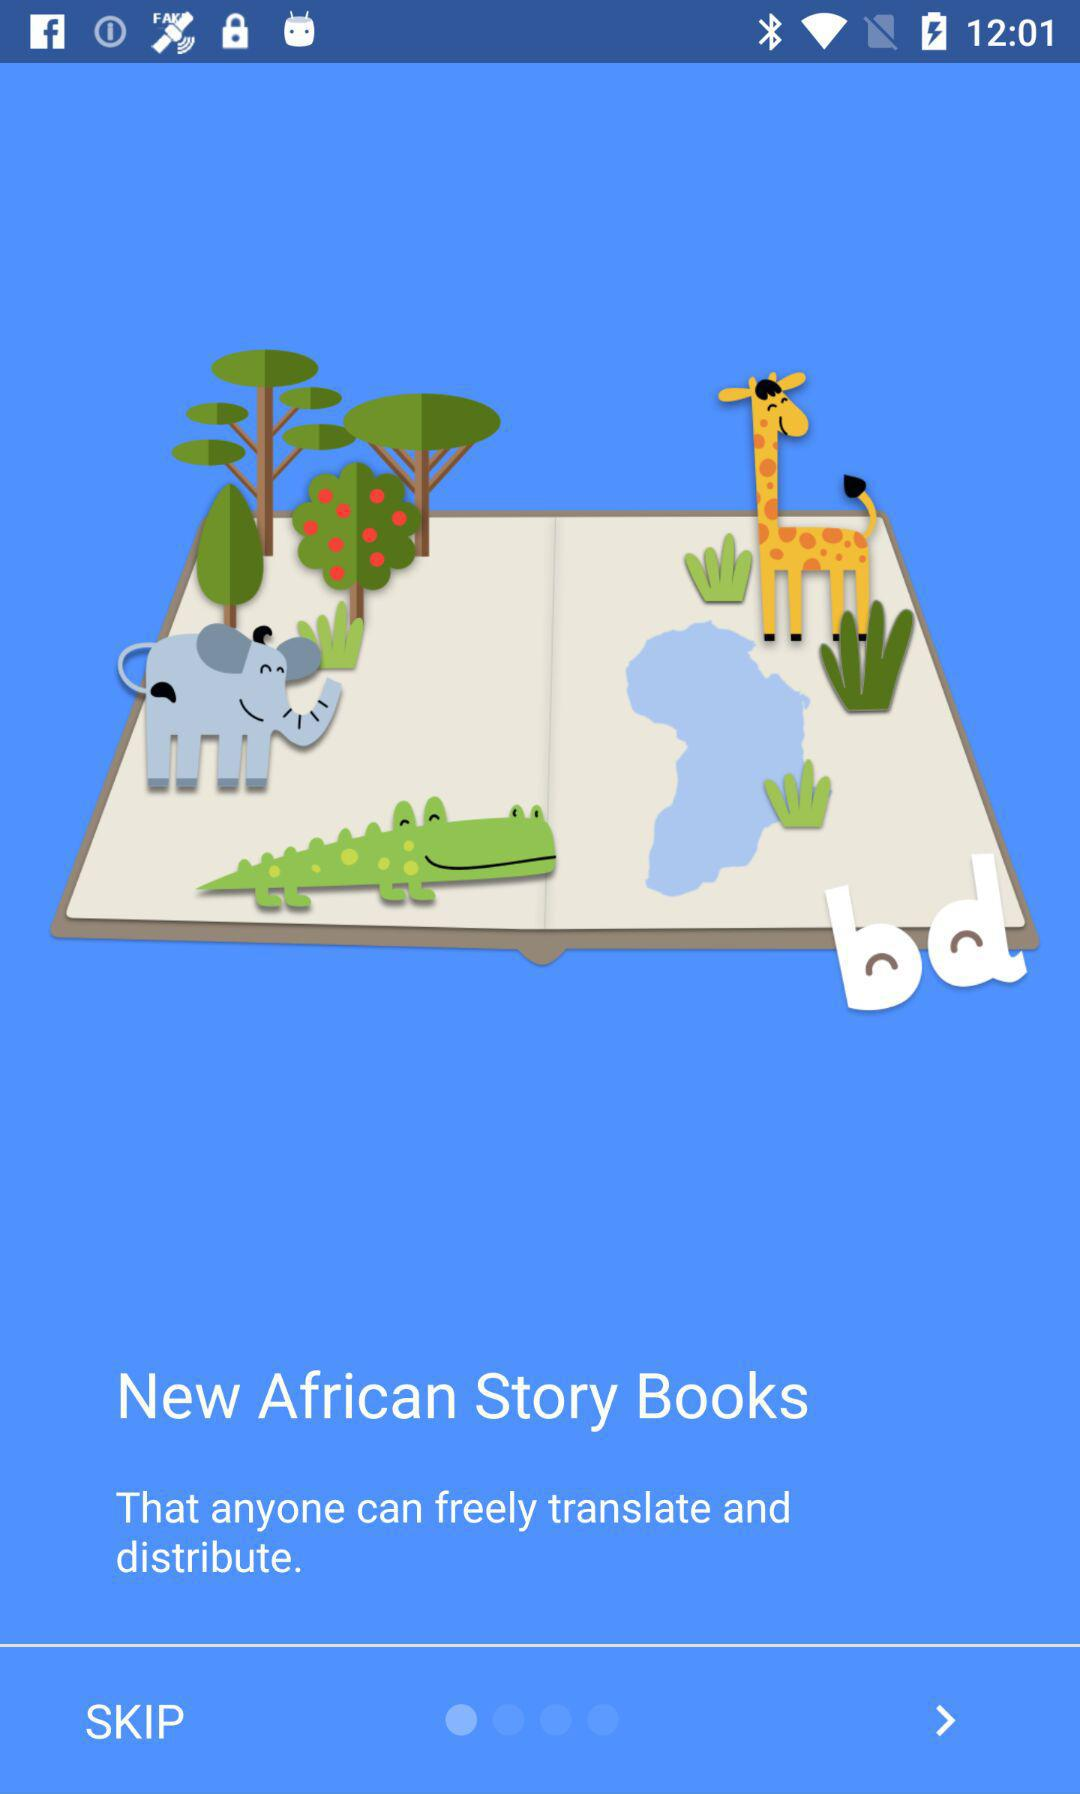Icon: (935, 1704, 957, 1738)
Image: (47, 349, 1042, 1014)
PageIndicator: (445, 1702, 621, 1738)
Text: (114, 1488, 793, 1576), (119, 1367, 808, 1433), (86, 1703, 186, 1741)
UpperTaskBar: (1, 1, 1080, 64)
